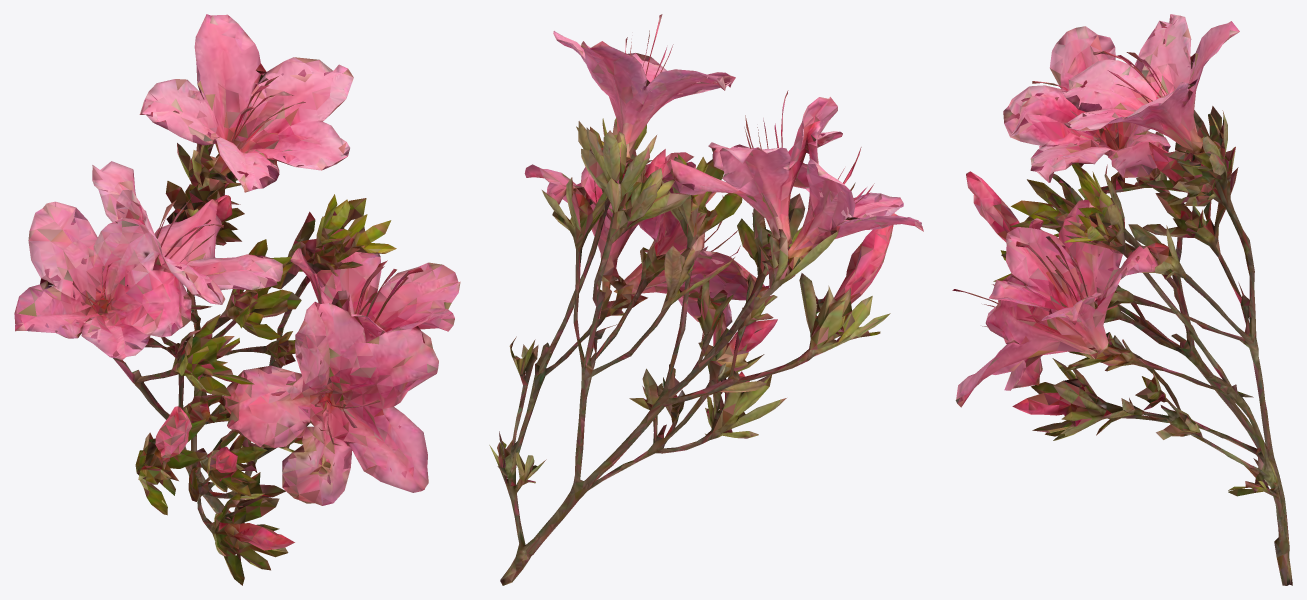
The model's file is azalea.glb.
3 renders of one model, left to right at view 1: azimuth 30°, elevation 25°; view 2: azimuth 150°, elevation 25°; view 3: azimuth 270°, elevation 25°, orthographic. The views are drawn at different scales.
Visible parts, largest first — view 1: QS1252-W08-1all-1_5; view 2: QS1252-W08-1all-1_5; view 3: QS1252-W08-1all-1_5.
Part boxes in pixels (x1,y1,x2,y2): QS1252-W08-1all-1_5: (14, 14, 460, 585); QS1252-W08-1all-1_5: (489, 14, 923, 585); QS1252-W08-1all-1_5: (952, 14, 1292, 585).
Size of the model in its own units: 6.94 by 8.81 by 5.11.
3 materials, 3 textured.
